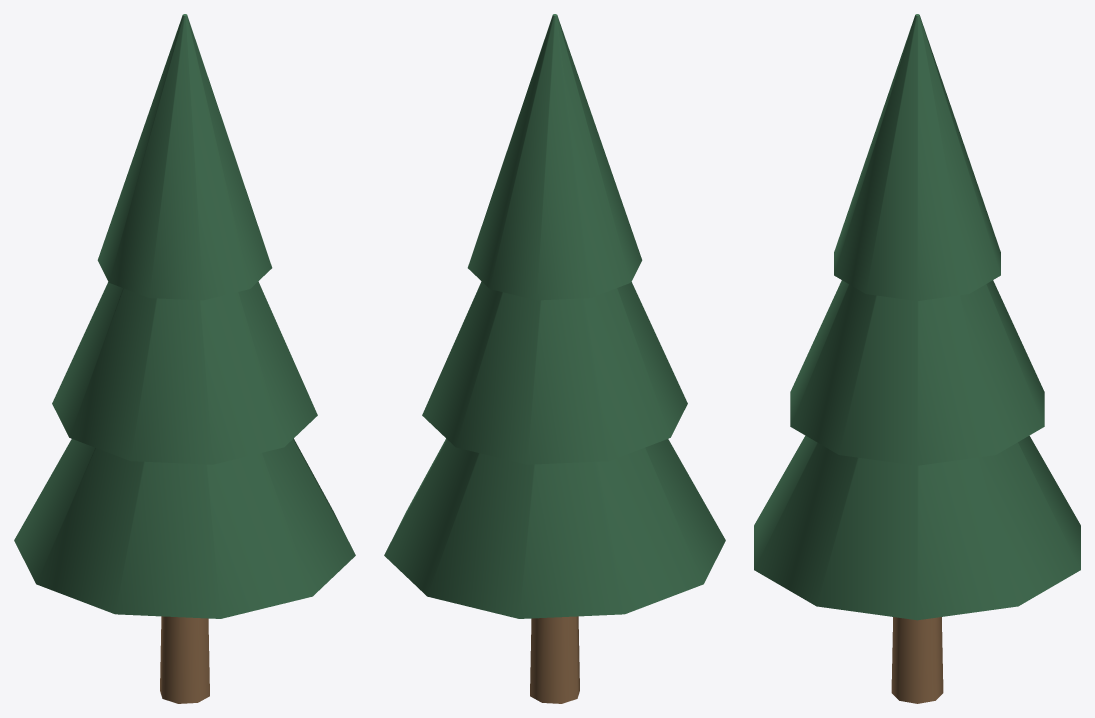
3 views of the same model, side by side, from view 1: azimuth 30°, elevation 25°; view 2: azimuth 150°, elevation 25°; view 3: azimuth 270°, elevation 25° (orthographic).
Parts seen in each view (by area): view 1: molen.entities.tree.conifer.pine; view 2: molen.entities.tree.conifer.pine; view 3: molen.entities.tree.conifer.pine.
Part boxes in pixels (left/top/right/bottom): molen.entities.tree.conifer.pine: left=14, top=14, right=355, bottom=703; molen.entities.tree.conifer.pine: left=384, top=14, right=725, bottom=703; molen.entities.tree.conifer.pine: left=754, top=14, right=1080, bottom=703.
Size of the model in its own units: 4.5 by 9.8 by 4.28.
